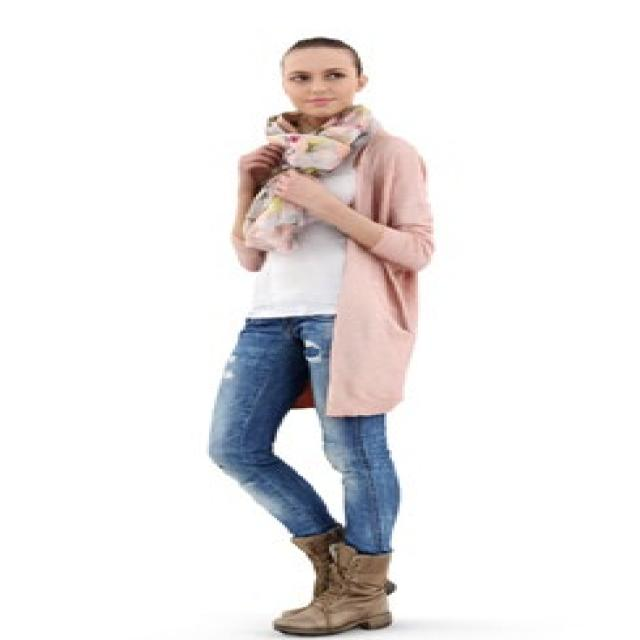standing: (202, 31, 448, 640)
